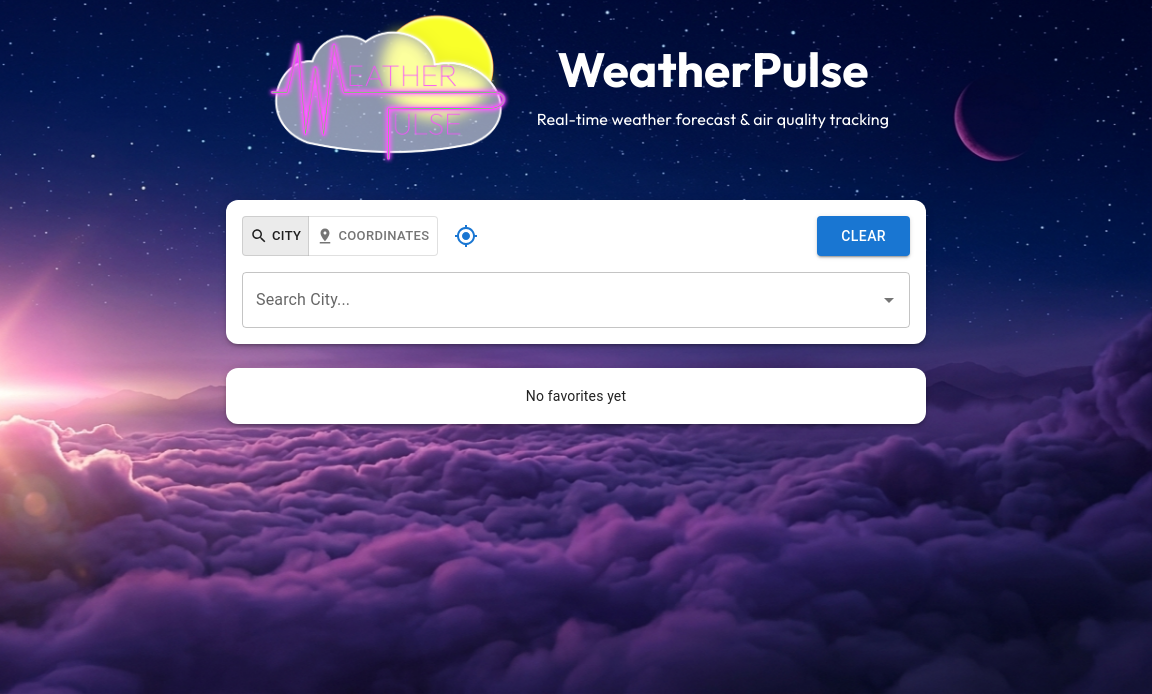
Test: App › hides the old-unit forecast when only the forecast refetch fails on a unit toggle
Click the button named "use my location" at (466,236), box [446, 216, 486, 256]
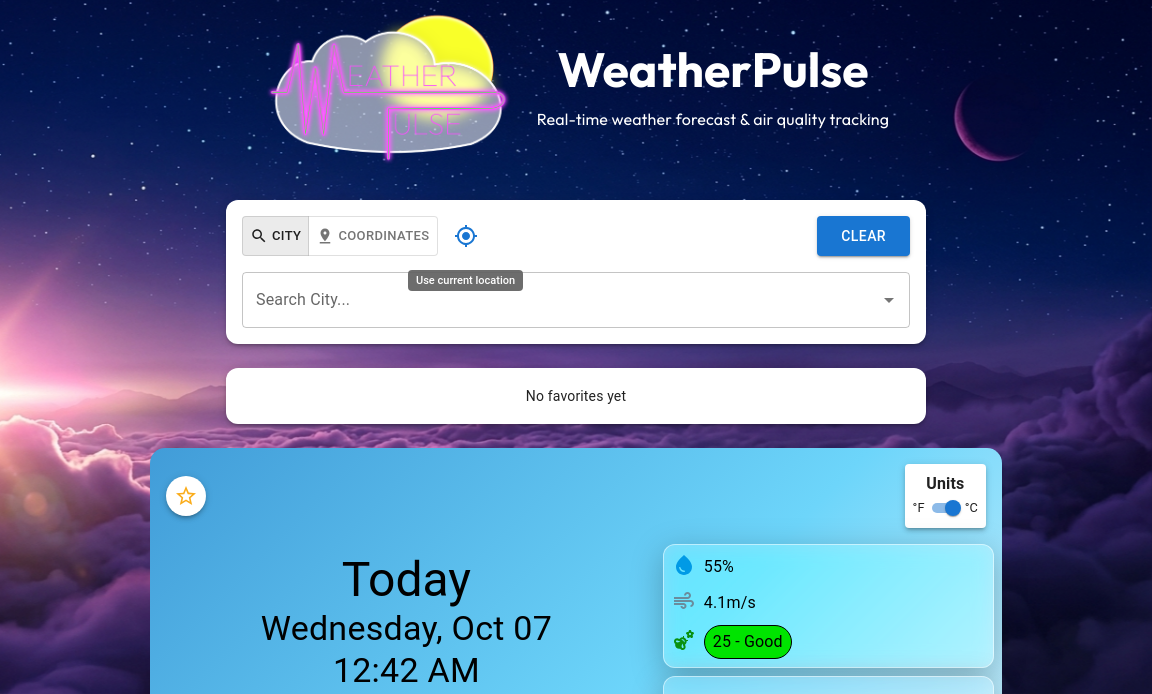
Expected: the text "No Forecast Data" is not shown
Click the switch at (953,508), box [945, 500, 961, 516]
(page scrolled)
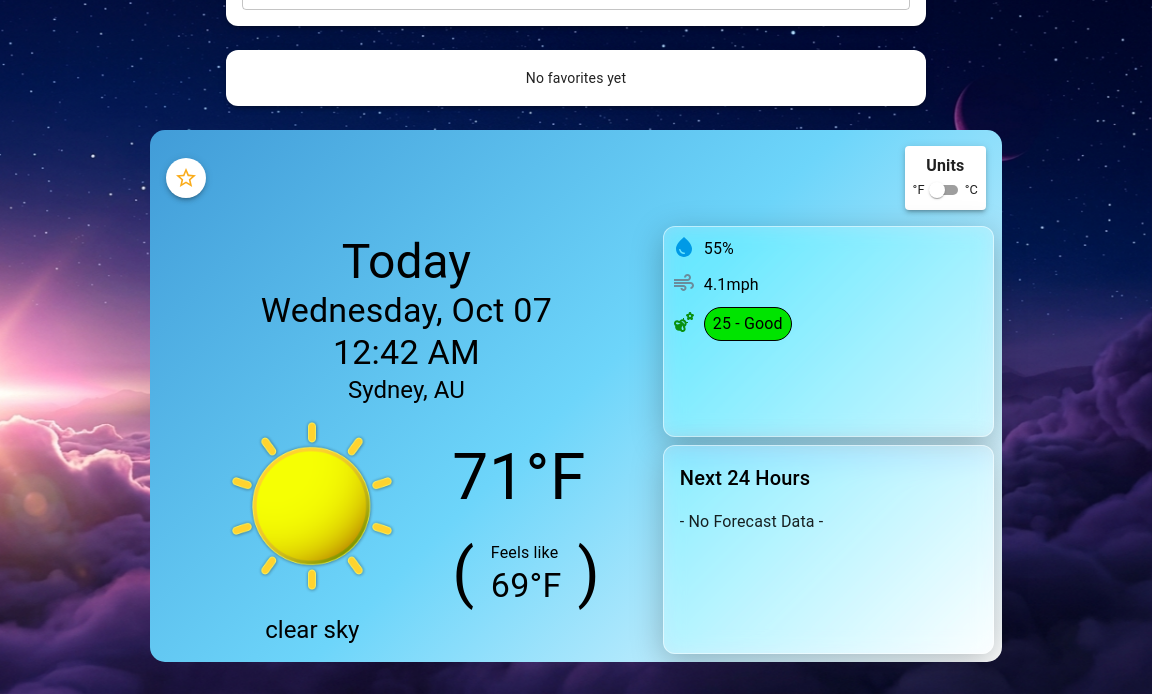
Now the text "71°F" is shown, box [452, 430, 586, 526]
Now the text "- No Forecast Data -" is shown, box [680, 512, 823, 531]
